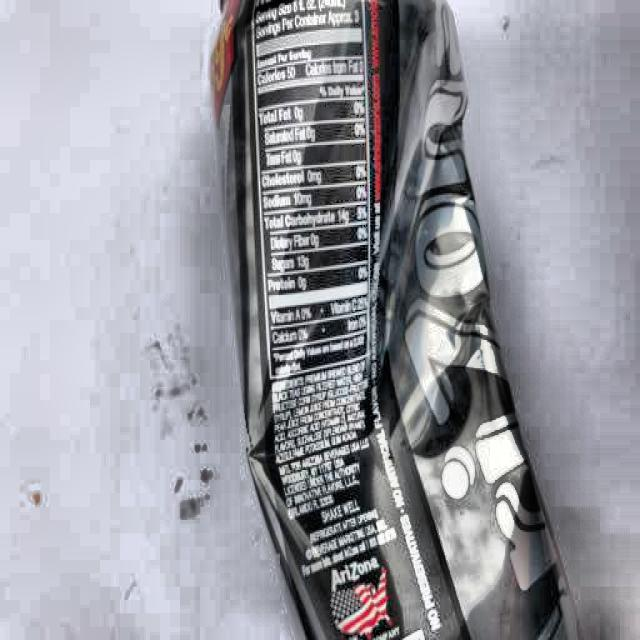metal: (204, 1, 585, 640)
